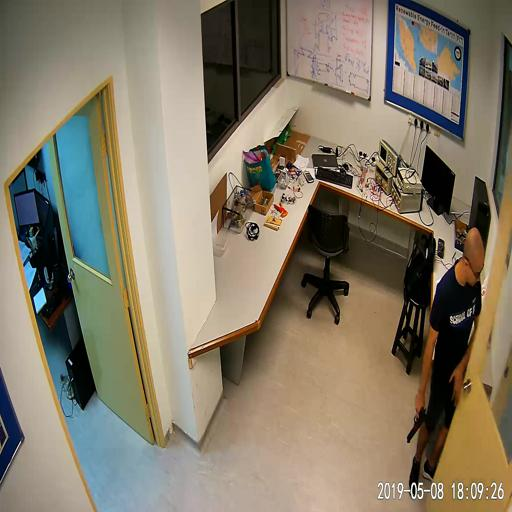pistol: (406, 392, 426, 444)
